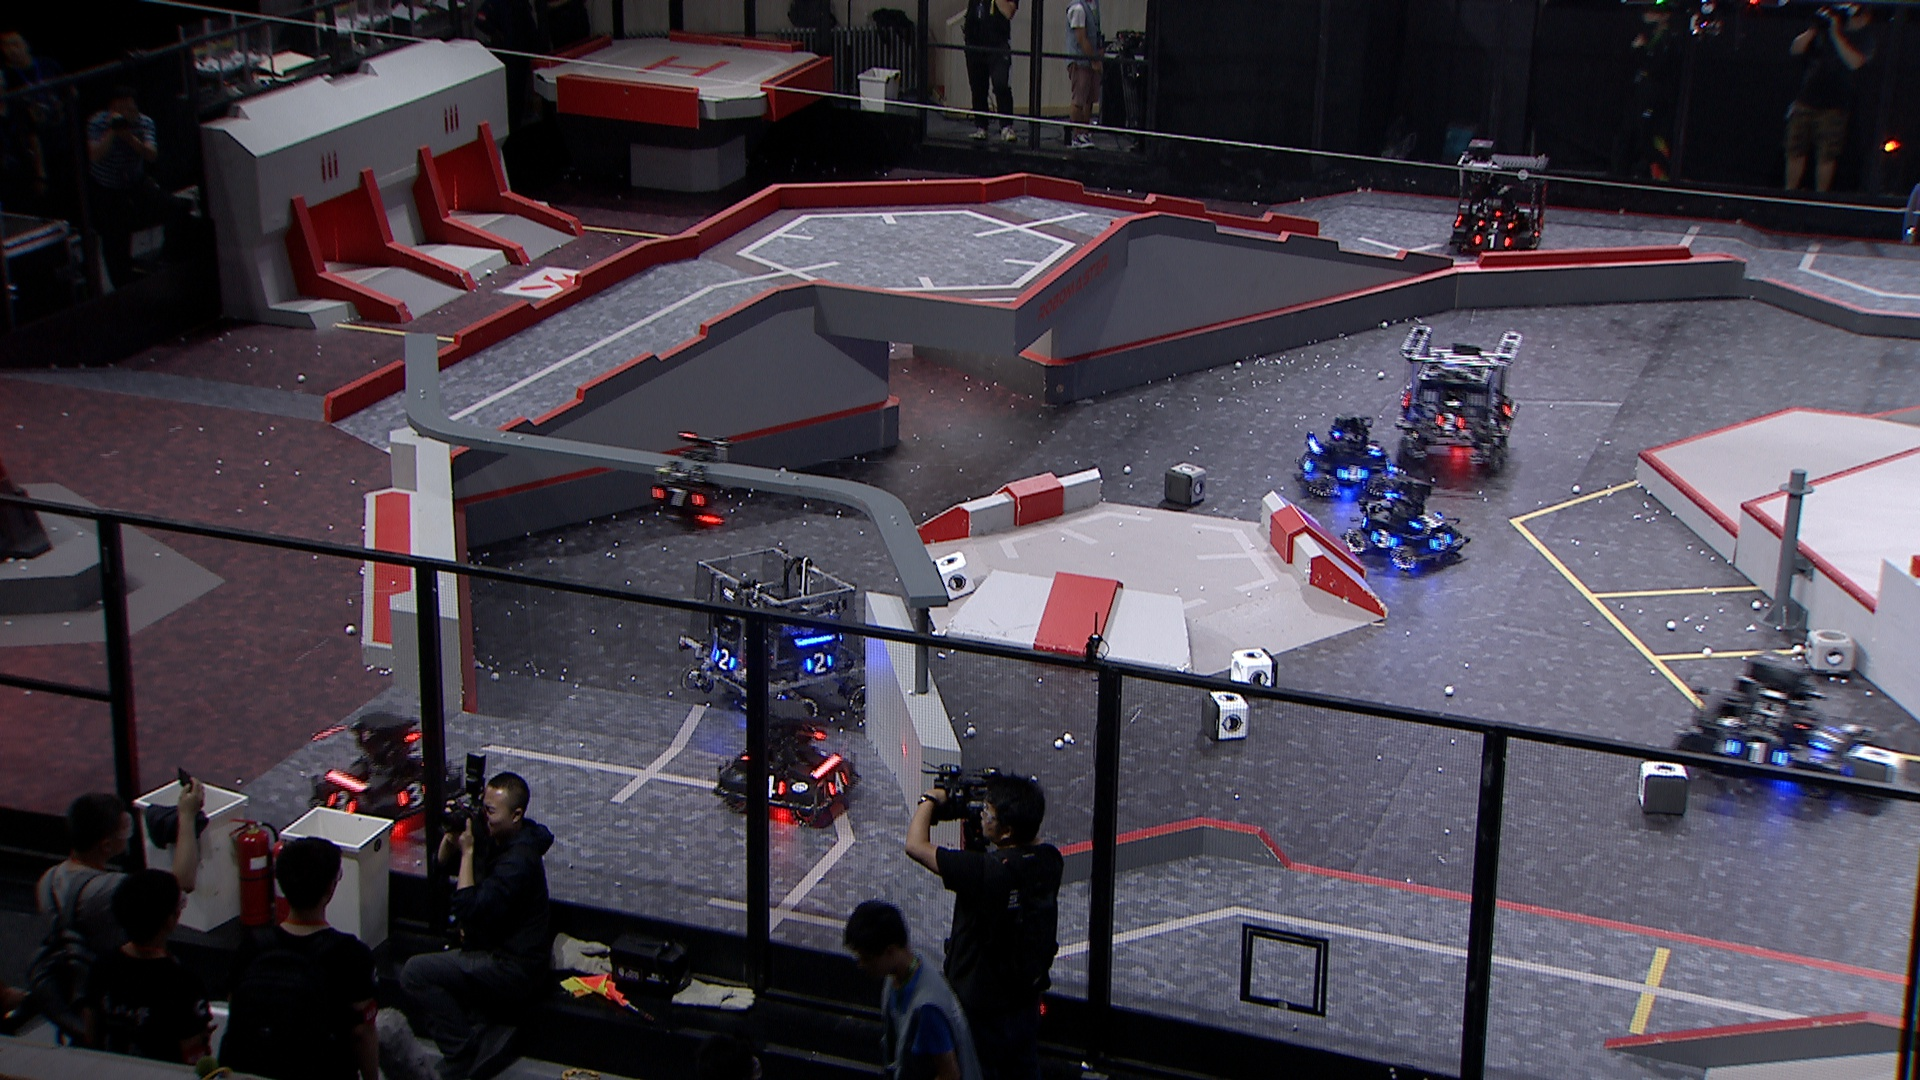armor: (1724, 737, 1789, 769), (651, 484, 705, 510), (1809, 725, 1846, 756), (1335, 463, 1370, 487), (324, 789, 357, 814), (1410, 509, 1444, 533), (396, 781, 425, 807), (804, 651, 835, 676), (1474, 233, 1513, 252), (1371, 527, 1396, 553), (825, 770, 849, 796), (765, 774, 789, 799), (713, 647, 737, 673), (1437, 413, 1465, 433), (1476, 216, 1516, 229), (1429, 531, 1455, 553), (1298, 454, 1317, 475), (1366, 443, 1385, 460), (1531, 223, 1544, 240)
car: (680, 547, 873, 723), (1677, 651, 1879, 799), (302, 709, 471, 845), (1395, 323, 1527, 472), (709, 698, 861, 827), (1342, 472, 1476, 572), (1447, 138, 1551, 258), (1295, 410, 1404, 498)
watcher: (650, 433, 731, 535)
